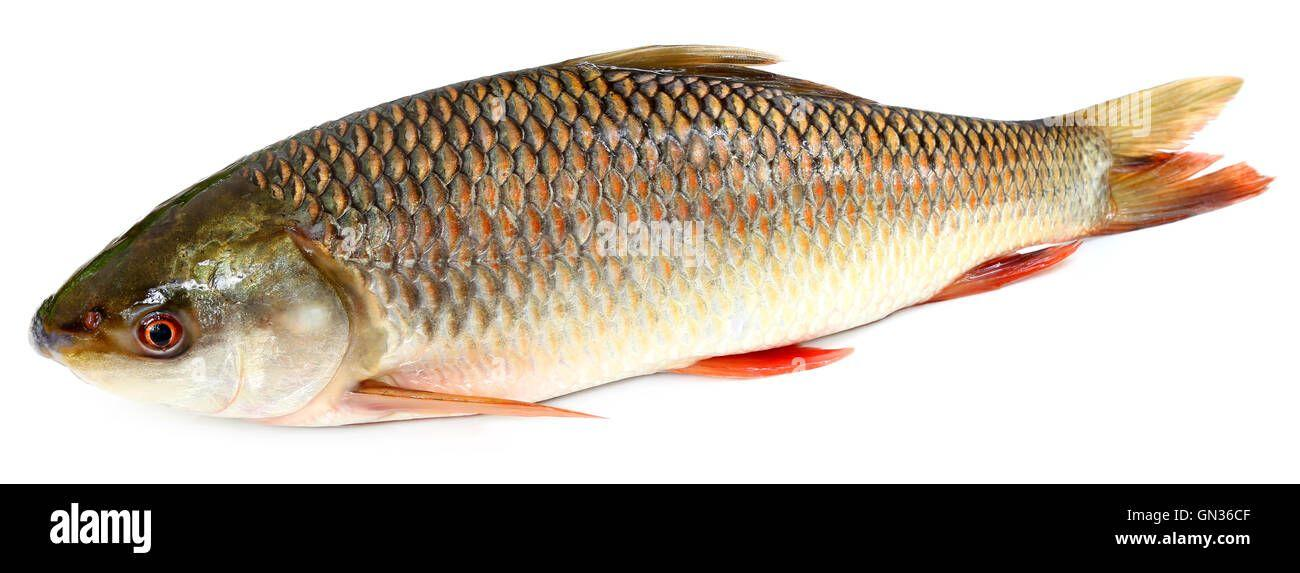Indian Carp: (37, 37, 1280, 427)
